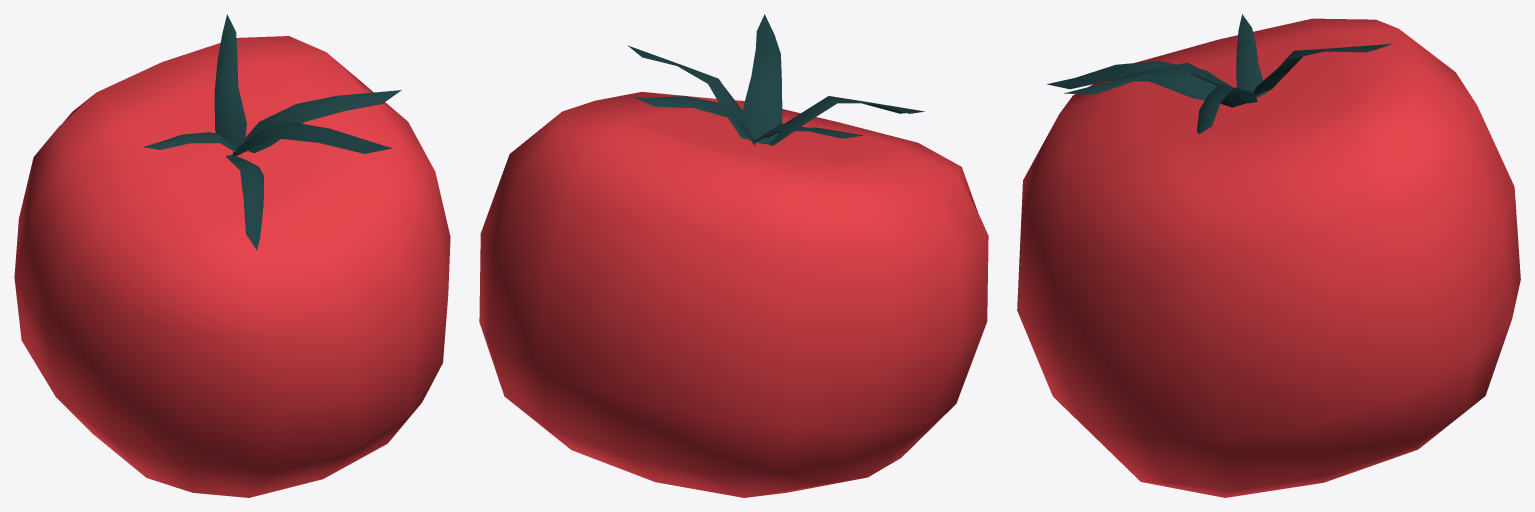
Rendered from Tomato.fbx.
3 views of the same model, side by side, from view 1: azimuth 30°, elevation 25°; view 2: azimuth 150°, elevation 25°; view 3: azimuth 270°, elevation 25° (orthographic). The views are drawn at different scales.
Parts seen in each view (by area): view 1: Plane.013; view 2: Plane.013; view 3: Plane.013.
Boxes of the visible parts, x1=… form: Plane.013: x1=14, y1=14, x2=450, y2=497; Plane.013: x1=479, y1=14, x2=988, y2=497; Plane.013: x1=1017, y1=14, x2=1520, y2=497.
Bounding box in the file's own units: 615 × 563 × 585.
